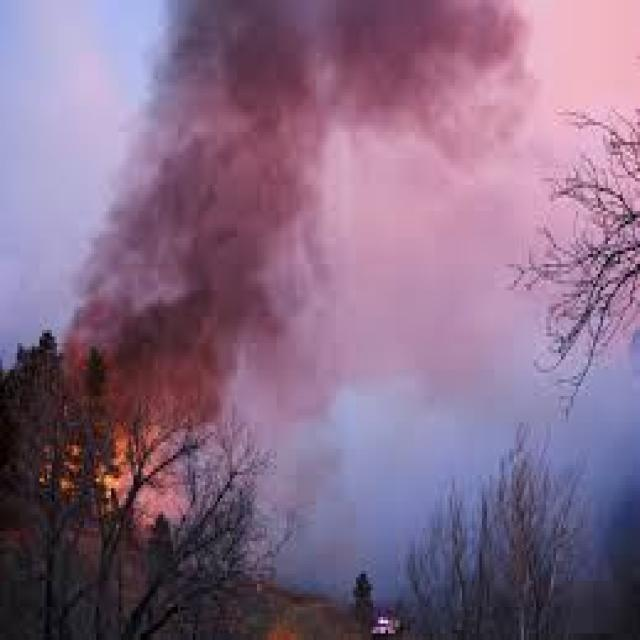Fire: (12, 322, 204, 524)
Smoke: (49, 0, 560, 318)
